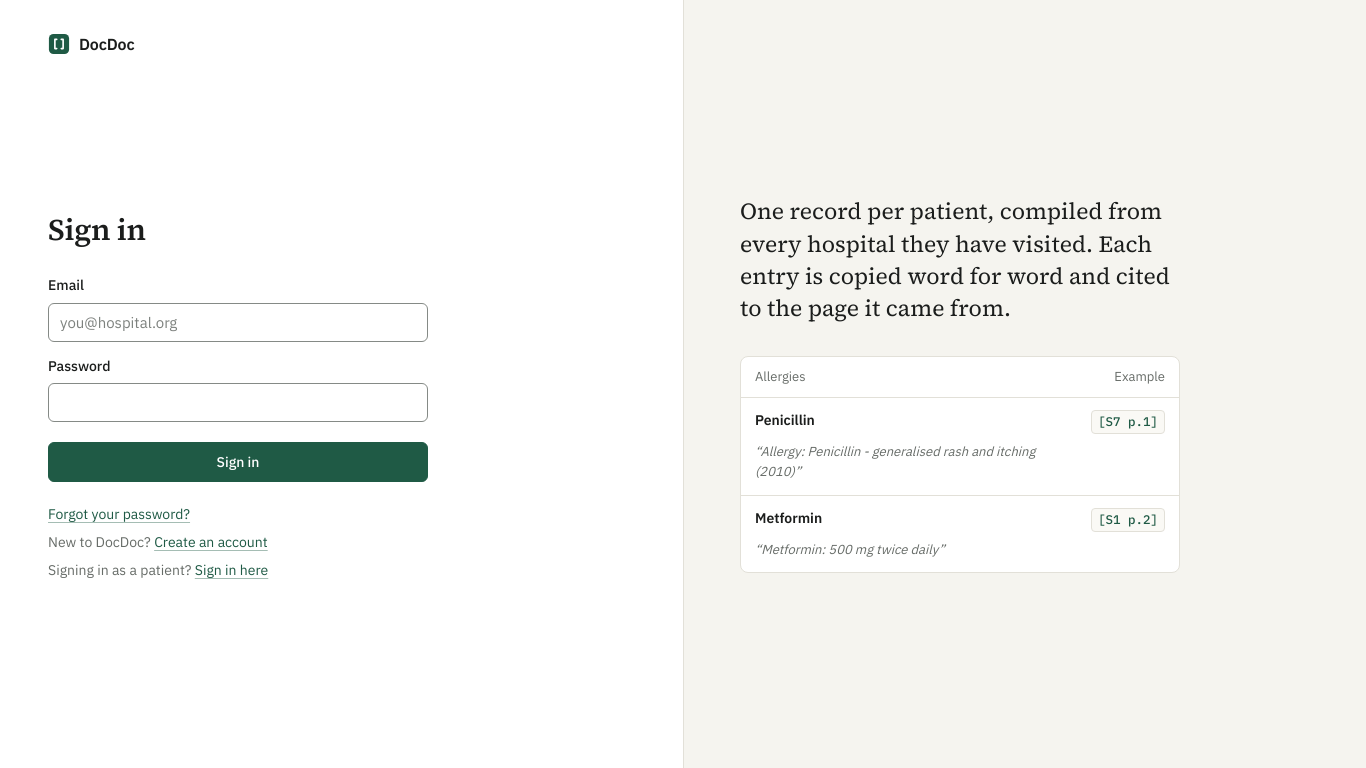
Scenario: sign in › signs in, lands on the cases list, moves focus to the page and announces it
In the field labelled "Email": (238, 322) [48, 303, 428, 342], type "asha@example.com"
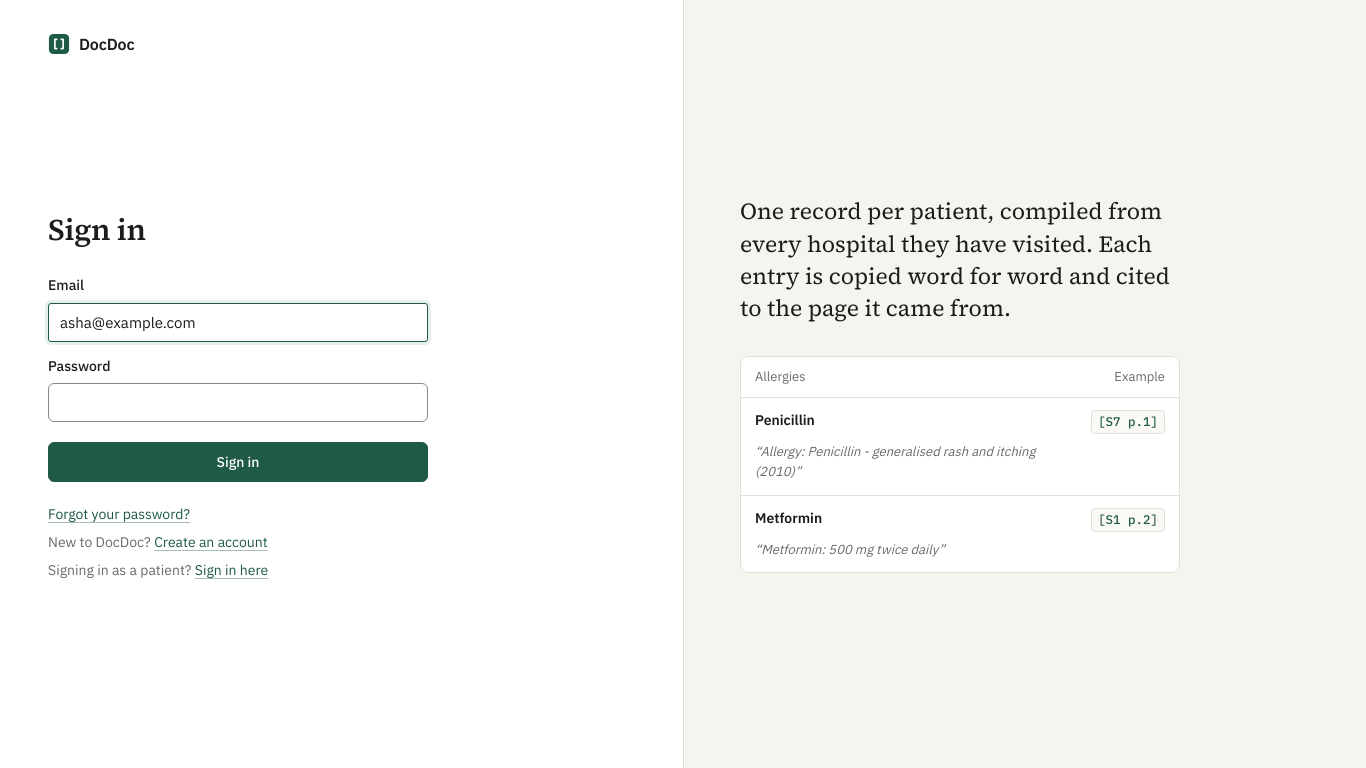
In the password field labelled "Password": (238, 403) [48, 383, 428, 422], type "right-password-123"
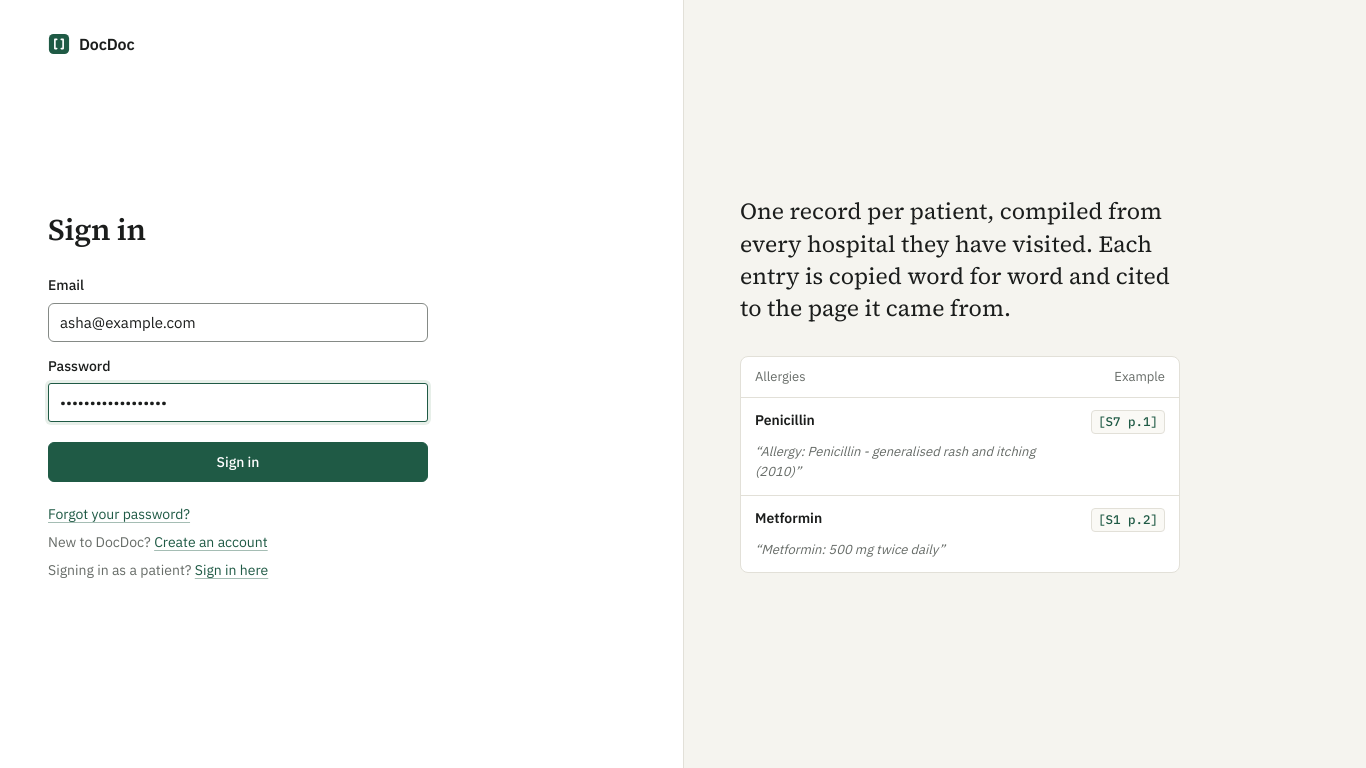
Click the button "Sign in": (238, 462) [48, 442, 428, 482]
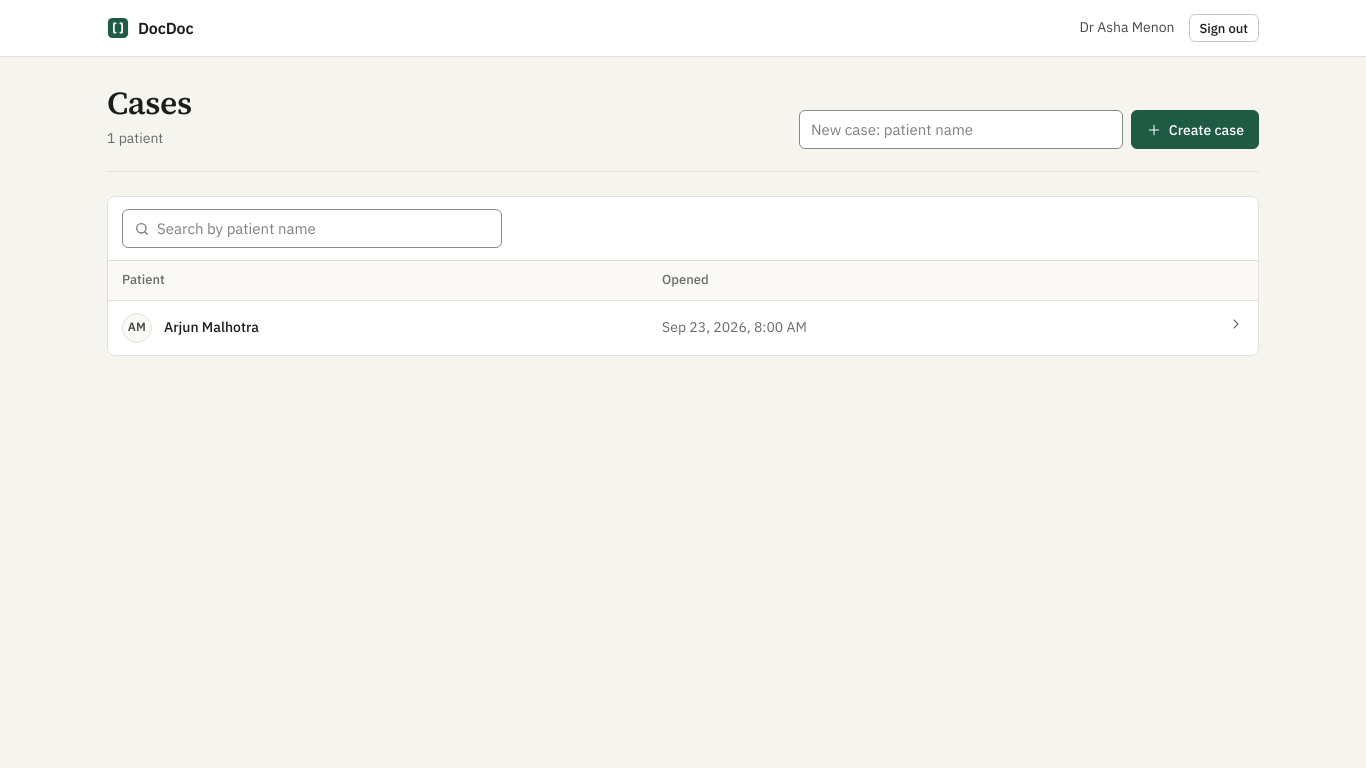
Check: the link "Arjun Malhotra" is shown, box [164, 317, 259, 338]
